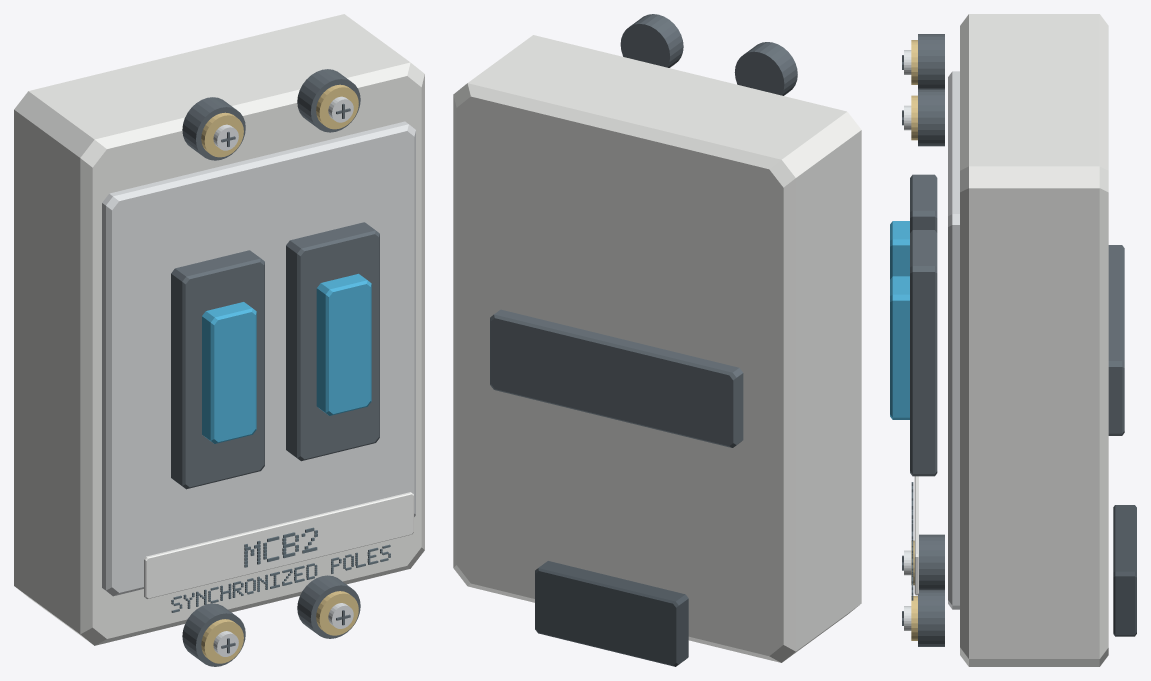
The model's file is mcb2P.glb.
The picture shows the model from 3 angles, left to right: view 1: azimuth 30°, elevation 25°; view 2: azimuth 150°, elevation 25°; view 3: azimuth 270°, elevation 25°; orthographic projection.
Visible parts, largest first — view 1: mcb2P-detailed; view 2: mcb2P-detailed; view 3: mcb2P-detailed.
Part boxes in pixels (x1,y1,x2,y2): mcb2P-detailed: (14, 14, 424, 666); mcb2P-detailed: (453, 14, 861, 666); mcb2P-detailed: (890, 14, 1136, 666).
Bounding box in the file's own units: 2.17 × 3.36 × 1.36.
